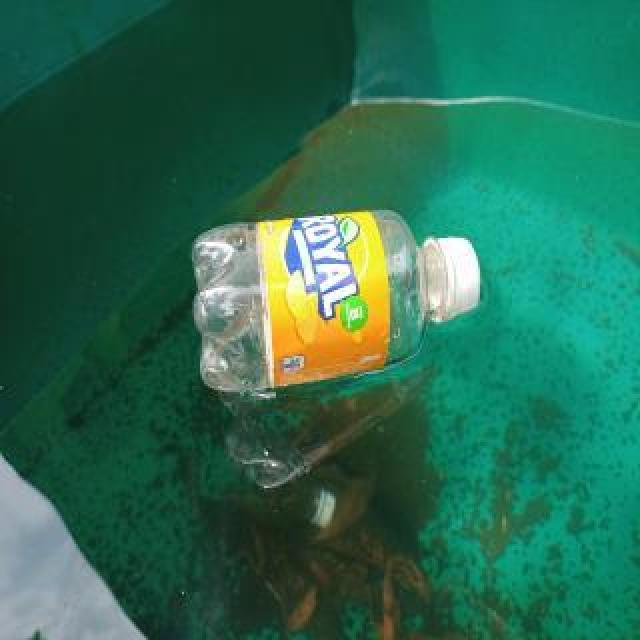bottle: (189, 205, 485, 397)
